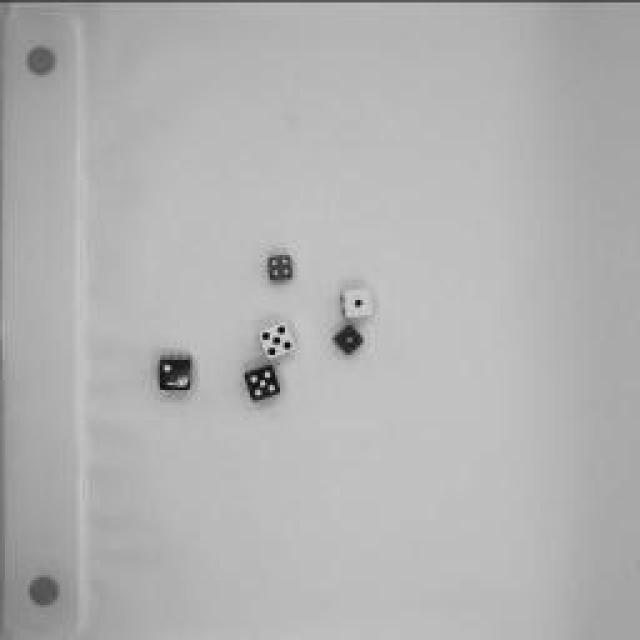dice_1: (339, 282, 379, 322), (330, 319, 365, 356)
dice_2: (155, 350, 197, 395)
dice_4: (266, 250, 299, 285)
dice_5: (243, 361, 285, 404), (258, 318, 298, 362)
